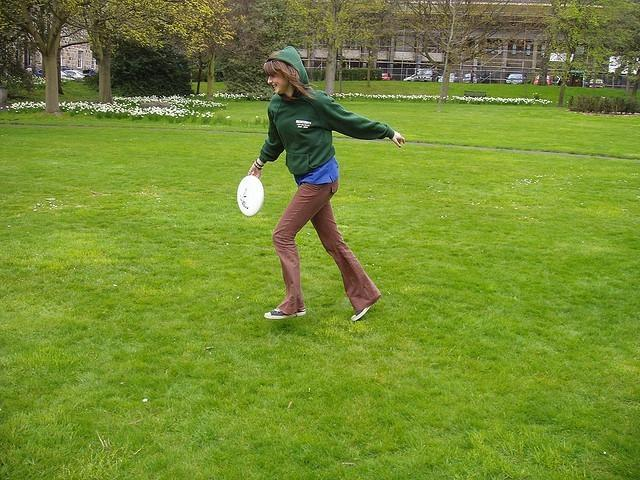car: (557, 75, 582, 87), (403, 74, 439, 82), (506, 73, 530, 84), (534, 74, 552, 84), (64, 70, 85, 78), (462, 74, 481, 82), (586, 80, 604, 88), (62, 70, 75, 81), (382, 72, 393, 80)
